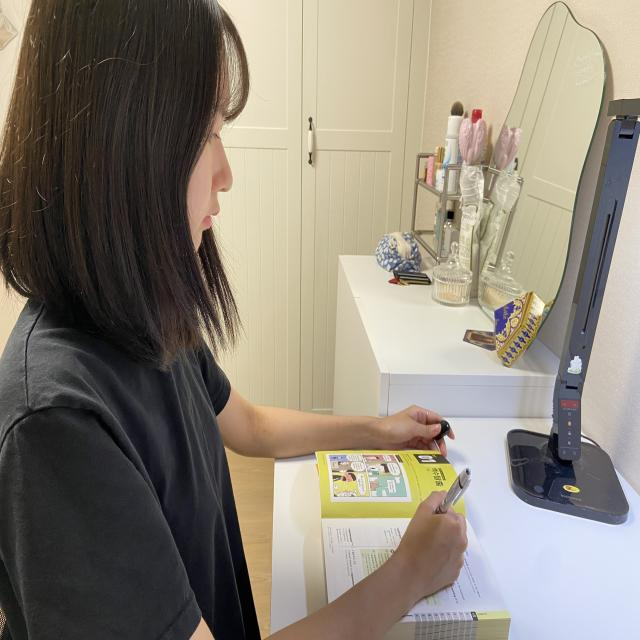studying-person: (0, 4, 519, 640)
